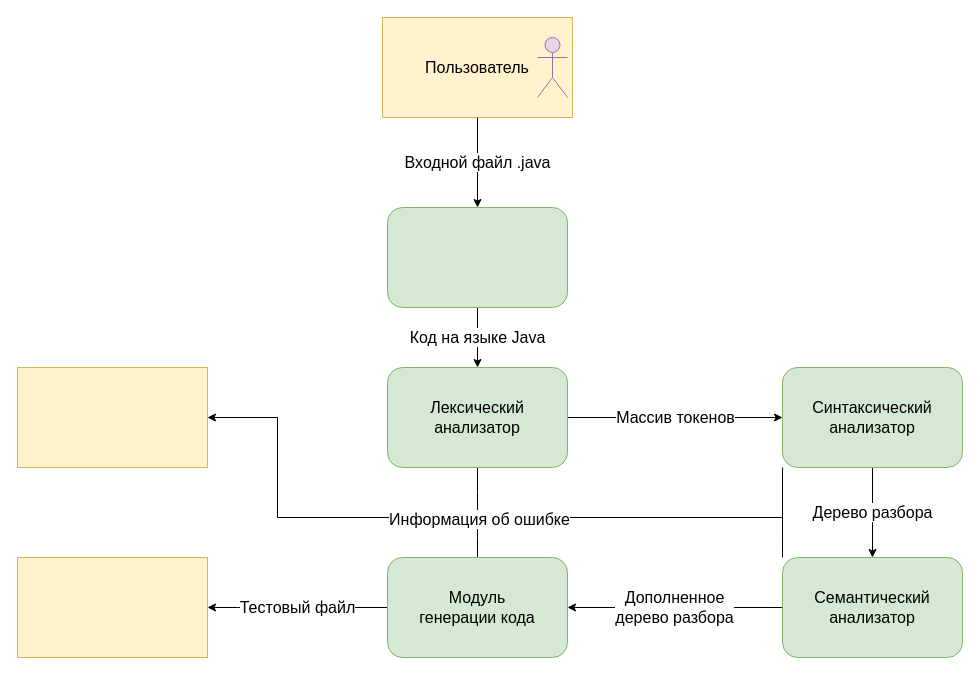
Some shapes in this 980 by 675 pixel diagram are drawn without their labels. The centre of each missing label's shape, as x and y in pixels:
"Код на языке C++" belongs at point 112,607.
"Пользовательский интерфейс" belongs at point 477,257.
"Сообщение об ошибке" belongs at point 112,417.
